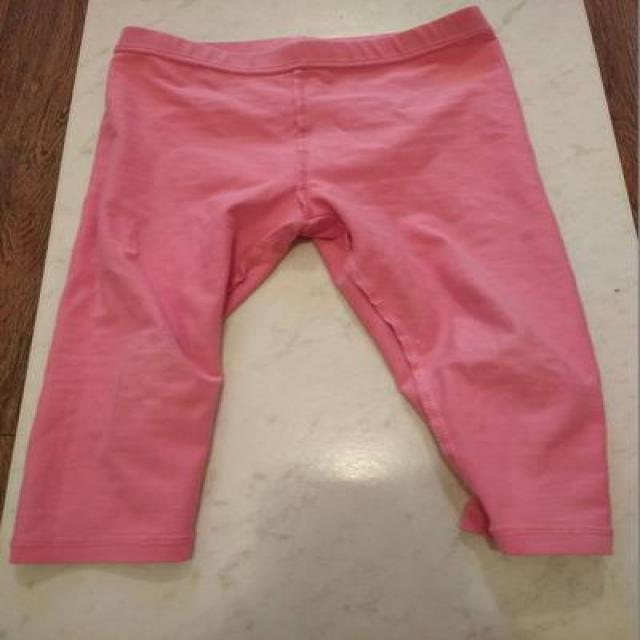Clothes -Biodegradable-: (11, 7, 612, 562)
